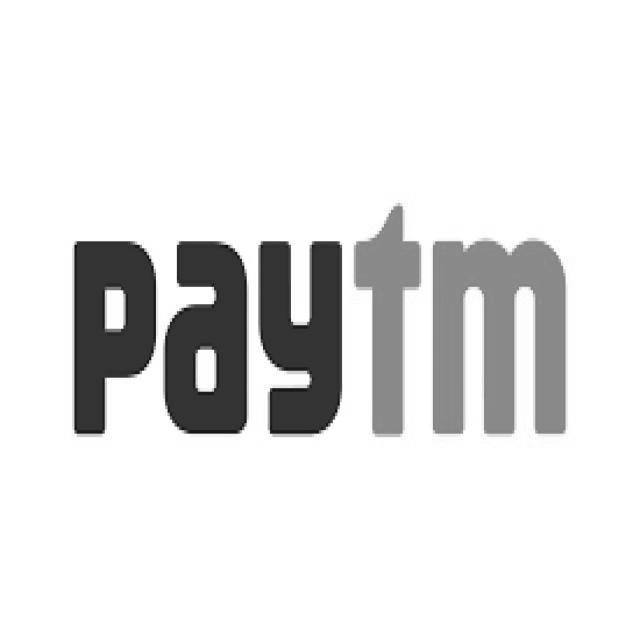fully_visible: (56, 201, 576, 476)
